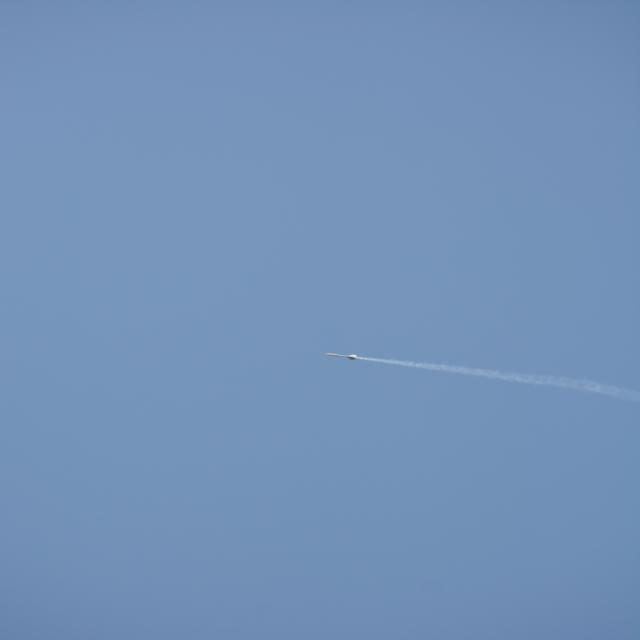Rocket: (324, 353, 358, 360)
